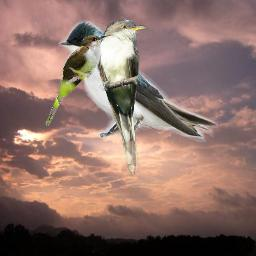Cuckoo: (96, 19, 147, 176), (45, 34, 107, 126)
Swallow: (58, 19, 218, 142)
